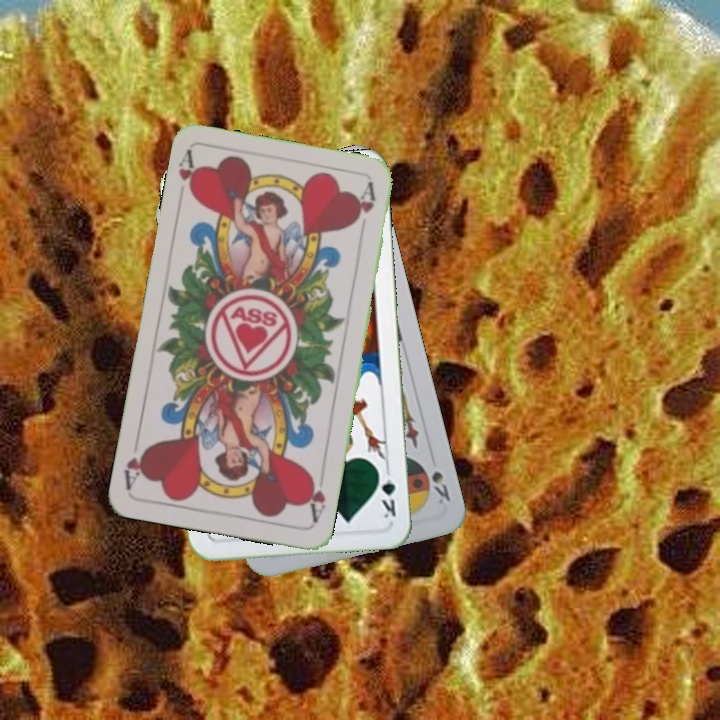GK: (374, 464, 399, 521)
HA: (174, 147, 202, 206), (302, 469, 328, 526)
SK: (427, 466, 453, 508)
